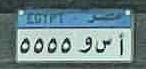5: (17, 38, 31, 54), (60, 37, 72, 55), (33, 36, 43, 56), (47, 38, 57, 52)
alif: (116, 33, 126, 55)
seen: (94, 37, 113, 54)
waw: (78, 35, 92, 54)
